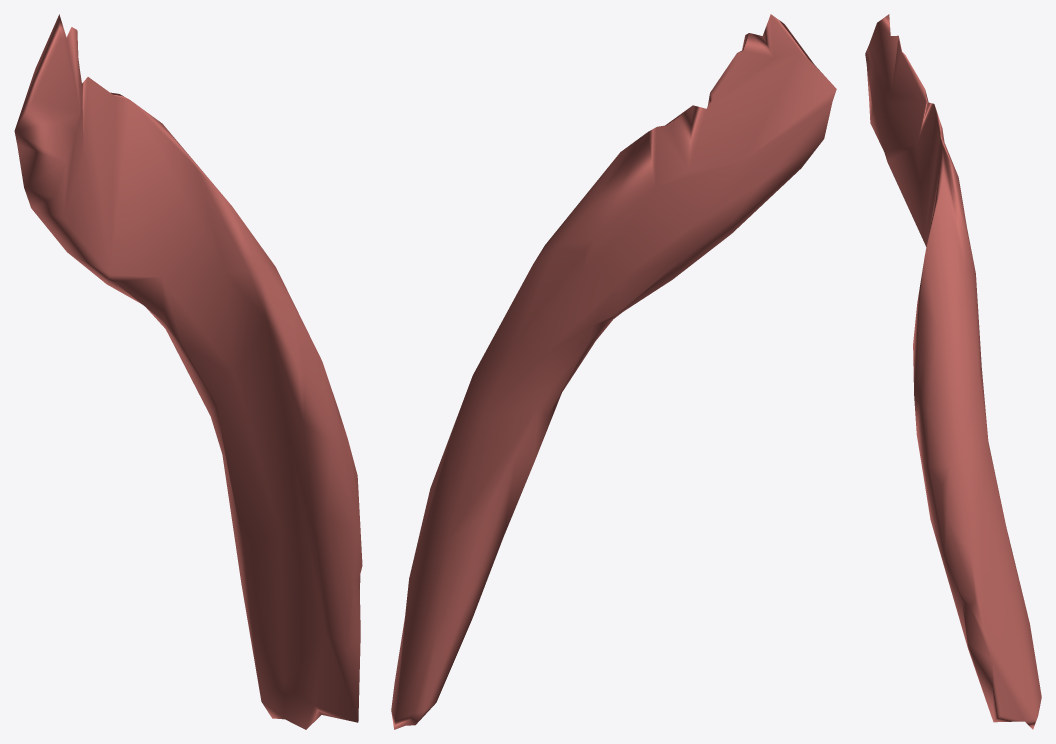
3 views of the same model, side by side, from view 1: azimuth 30°, elevation 25°; view 2: azimuth 150°, elevation 25°; view 3: azimuth 270°, elevation 25° (orthographic). The views are drawn at different scales.
Parts seen in each view (by area): view 1: 左侧小趾对跖肌; view 2: 左侧小趾对跖肌; view 3: 左侧小趾对跖肌.
Boxes of the visible parts, left/top/right/bottom form: 左侧小趾对跖肌: left=14, top=14, right=362, bottom=729; 左侧小趾对跖肌: left=391, top=14, right=836, bottom=729; 左侧小趾对跖肌: left=865, top=14, right=1041, bottom=729.
Size of the model in its own units: 0.0333 by 0.0638 by 0.017.
